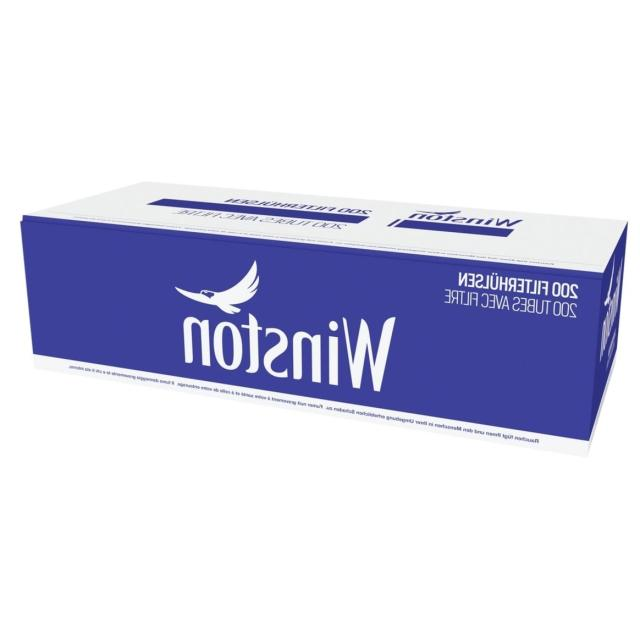winston: (26, 165, 625, 445)
